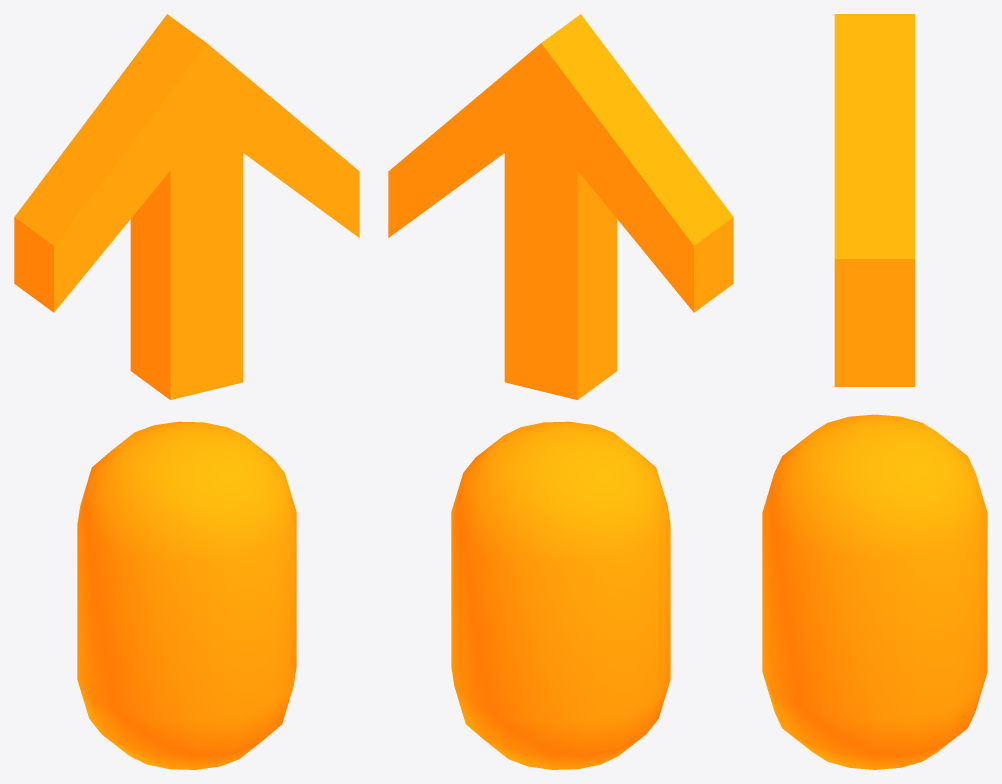
File: gun_speed.fbx
3 renders of one model, left to right at view 1: azimuth 30°, elevation 25°; view 2: azimuth 150°, elevation 25°; view 3: azimuth 270°, elevation 25°, orthographic.
Parts seen in each view (by area): view 1: Cube.003; view 2: Cube.003; view 3: Cube.003.
Part boxes in pixels (box(x1,y1,x2,y2)): Cube.003: box(14, 14, 359, 769); Cube.003: box(388, 14, 733, 769); Cube.003: box(762, 14, 987, 769).
Size of the model in its own units: 101 by 228 by 62.94.
